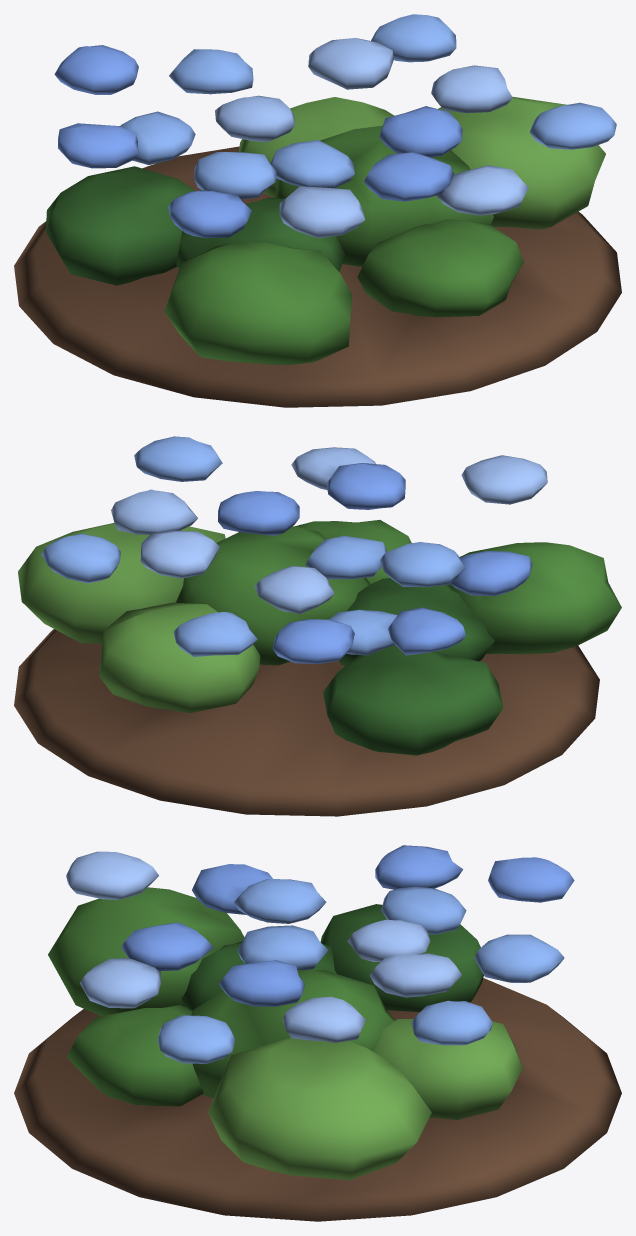
Rendered from forgetMeNots.glb.
3 renders of one model, top to bottom at view 1: azimuth 30°, elevation 25°; view 2: azimuth 150°, elevation 25°; view 3: azimuth 270°, elevation 25°, orthographic. The views are drawn at different scales.
Parts seen in each view (by area): view 1: forgetMeNots; view 2: forgetMeNots; view 3: forgetMeNots.
Boxes of the visible parts, x1,y1,x2,y2 form: forgetMeNots: [14, 14, 621, 407]; forgetMeNots: [14, 436, 621, 816]; forgetMeNots: [14, 845, 621, 1221].
Size of the model in its own units: 0.8663 by 0.2804 by 0.84.
